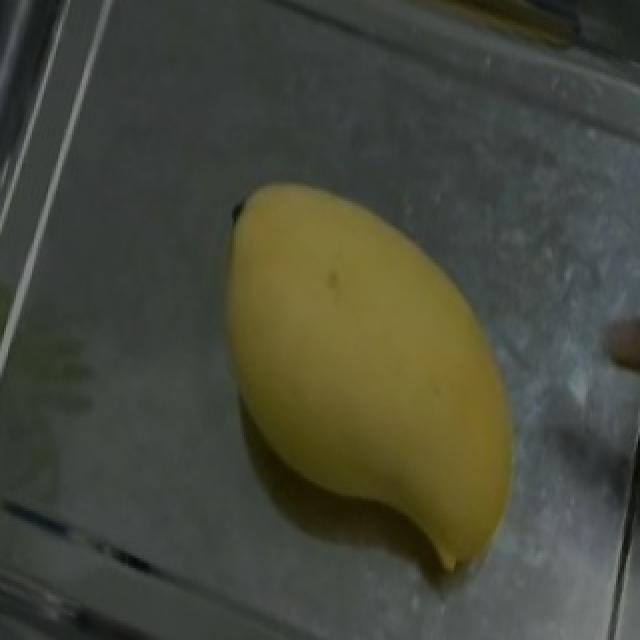fruit: (184, 141, 562, 536)
